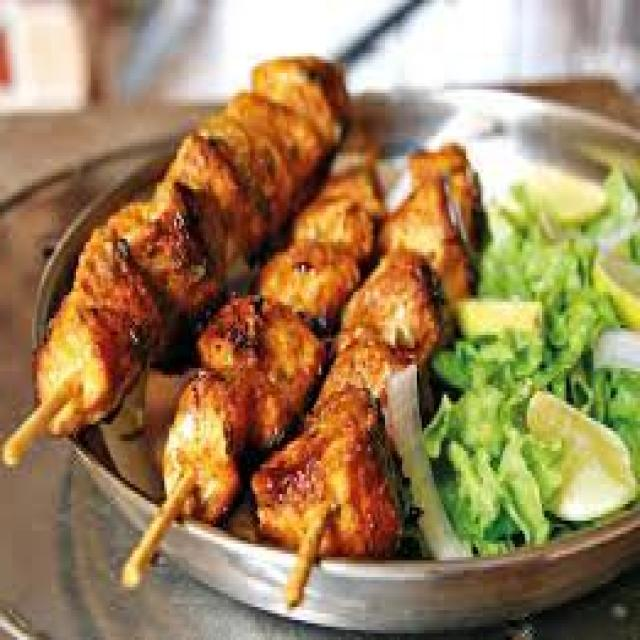Chicken Tikka: (29, 52, 482, 558)
